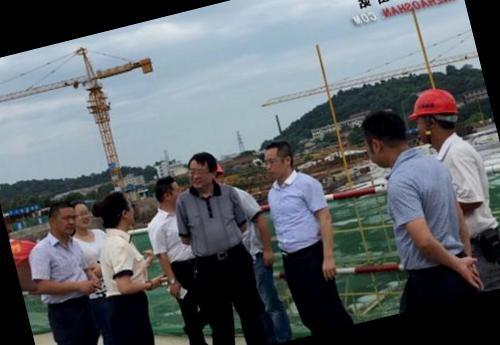no_helmet: (354, 102, 416, 174), (94, 187, 138, 239), (258, 134, 301, 185), (183, 146, 224, 194), (42, 195, 82, 241), (148, 170, 186, 216), (65, 194, 98, 235)
